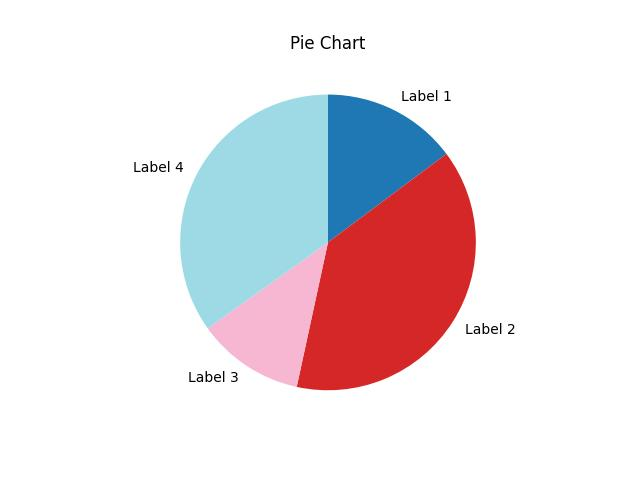sector: (297, 152, 475, 391), (179, 94, 328, 329), (327, 93, 445, 245), (205, 243, 326, 387)
